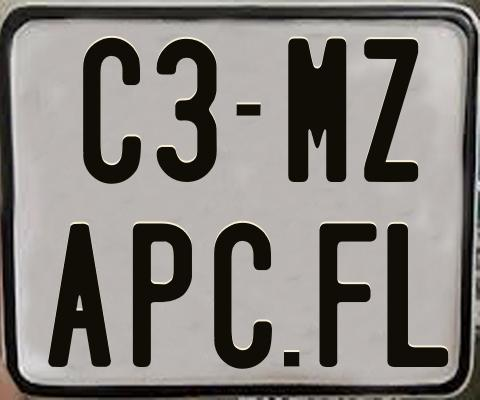3: (156, 36, 219, 183)
A: (45, 222, 108, 368)
C: (83, 35, 142, 187), (214, 220, 273, 372)
F: (316, 222, 374, 371)
L: (385, 223, 451, 368)
M: (287, 38, 351, 182)
P: (131, 222, 194, 368)
Z: (361, 37, 417, 185)
